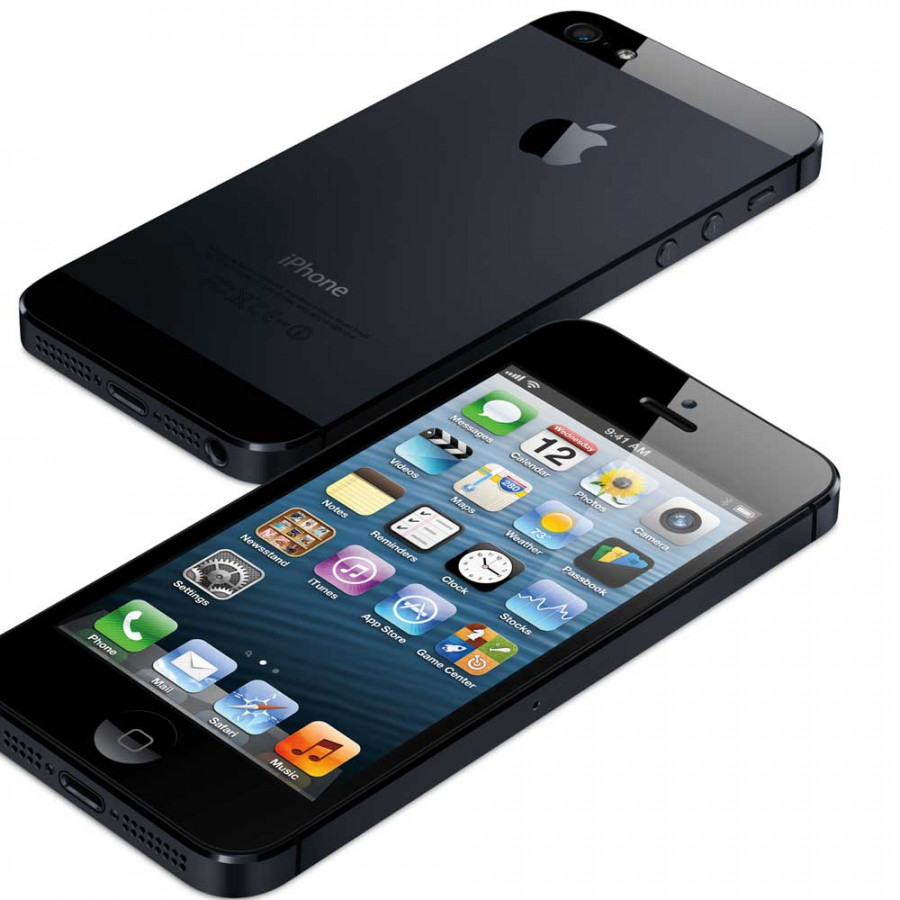Apple: (510, 82, 628, 180), (267, 240, 363, 317)
